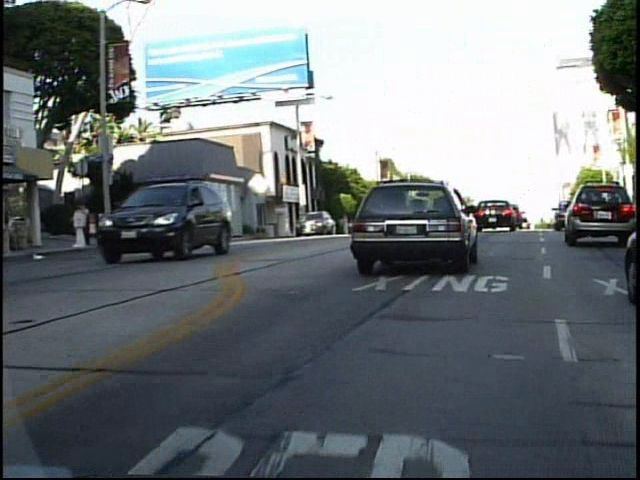person: (80, 194, 102, 251)
